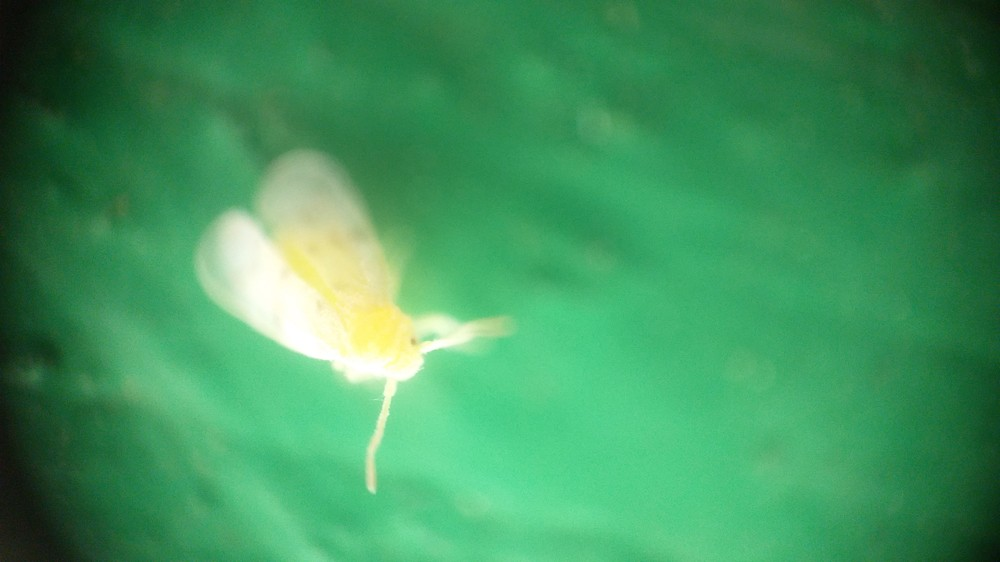Mosca Blanca: (180, 139, 529, 517)
